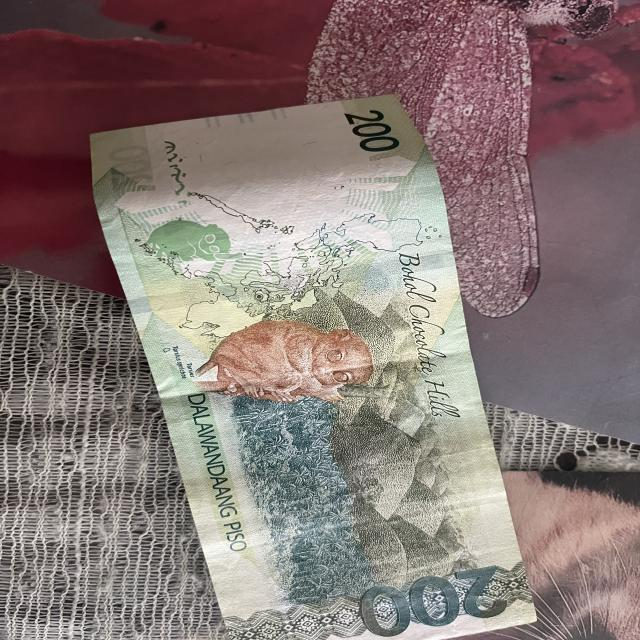200_tarsier: (179, 308, 378, 414)
200_tarsier_watermark: (139, 212, 259, 270)
